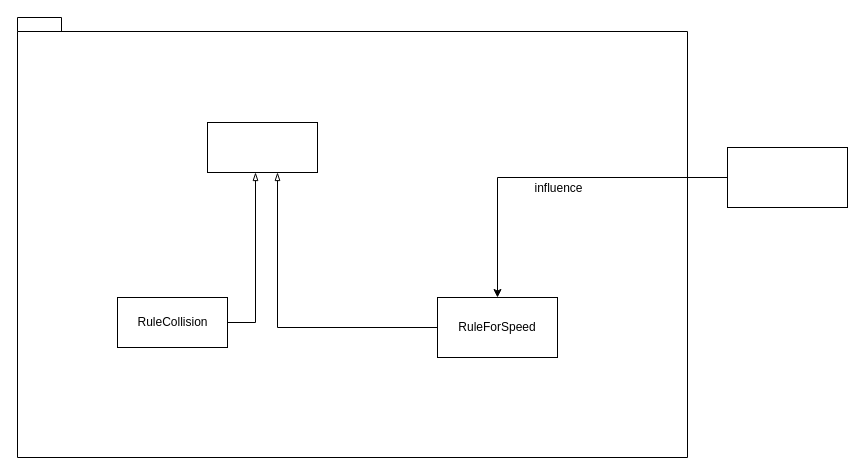
The diagram is 865 pixels wide and 475 high, and some of its shapes have lost their labels. The box of each missing label's shape, as (x1, y1, x2, y2) in pixels:
General Rule in 2D: (206, 122, 318, 172)
weather: (726, 146, 848, 208)
